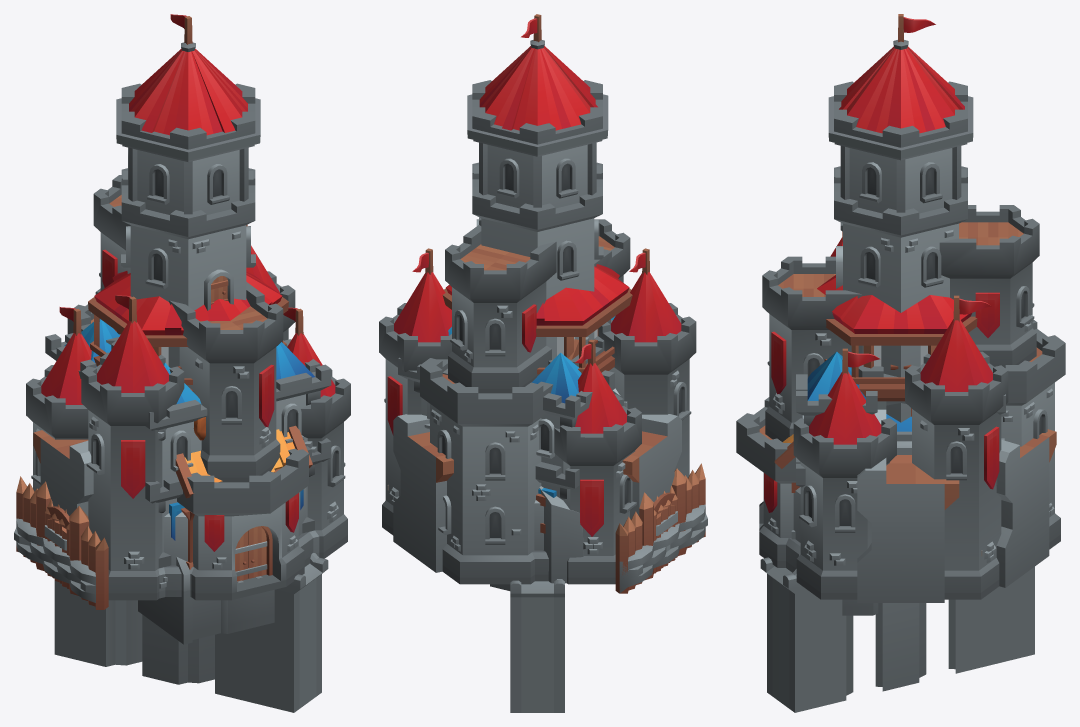
File: town.glb
3 views of the same model, side by side, from view 1: azimuth 30°, elevation 25°; view 2: azimuth 150°, elevation 25°; view 3: azimuth 270°, elevation 25° (orthographic). The views are drawn at different scales.
Parts seen in each view (by area): view 1: building_castle_red, building_bridge_A, building_barracks_blue, building_watermill_yellow, building_tower_B_top_red, wall_corner_A_outside, fence_stone_straight, fence_wood_straight, fence_wood_straight_gate, fence_wood_straight_door, wall_straight_gate; view 2: building_castle_red, wall_corner_A_outside, building_bridge_A, building_barracks_blue, building_tower_B_top_red, fence_stone_straight, building_mine_yellow, fence_wood_straight, fence_wood_straight_gate, fence_wood_straight_door; view 3: building_castle_red, building_bridge_A, wall_straight, wall_corner_A_outside, building_tower_B_top_red, wall_straight_gate, building_barracks_blue, building_watermill_yellow.
Part boxes in pixels (x1,y1,x2,y2): building_castle_red: [26, 14, 350, 600]; building_bridge_A: [54, 553, 328, 712]; building_barracks_blue: [45, 319, 331, 598]; building_watermill_yellow: [138, 425, 312, 644]; building_tower_B_top_red: [88, 269, 288, 391]; wall_corner_A_outside: [33, 430, 88, 515]; fence_stone_straight: [14, 518, 95, 602]; fence_wood_straight: [16, 476, 105, 609]; fence_wood_straight_gate: [35, 481, 108, 609]; fence_wood_straight_door: [44, 518, 66, 587]; wall_straight_gate: [77, 451, 93, 516]; building_castle_red: [379, 14, 696, 584]; wall_corner_A_outside: [393, 401, 681, 572]; building_bridge_A: [510, 579, 564, 712]; building_barracks_blue: [398, 316, 615, 499]; building_tower_B_top_red: [442, 264, 632, 374]; fence_stone_straight: [619, 504, 707, 593]; building_mine_yellow: [539, 486, 583, 583]; fence_wood_straight: [619, 463, 705, 593]; fence_wood_straight_gate: [615, 468, 704, 593]; fence_wood_straight_door: [656, 504, 677, 571]; building_castle_red: [736, 14, 1065, 599]; building_bridge_A: [760, 557, 1034, 712]; wall_straight: [857, 458, 959, 602]; wall_corner_A_outside: [996, 429, 1056, 587]; building_tower_B_top_red: [817, 275, 977, 401]; wall_straight_gate: [857, 401, 956, 602]; building_barracks_blue: [796, 351, 1005, 555]; building_watermill_yellow: [774, 434, 878, 615].
Size of the model in its own units: 2.1 by 4.98 by 2.26.
1 material, 1 textured.
